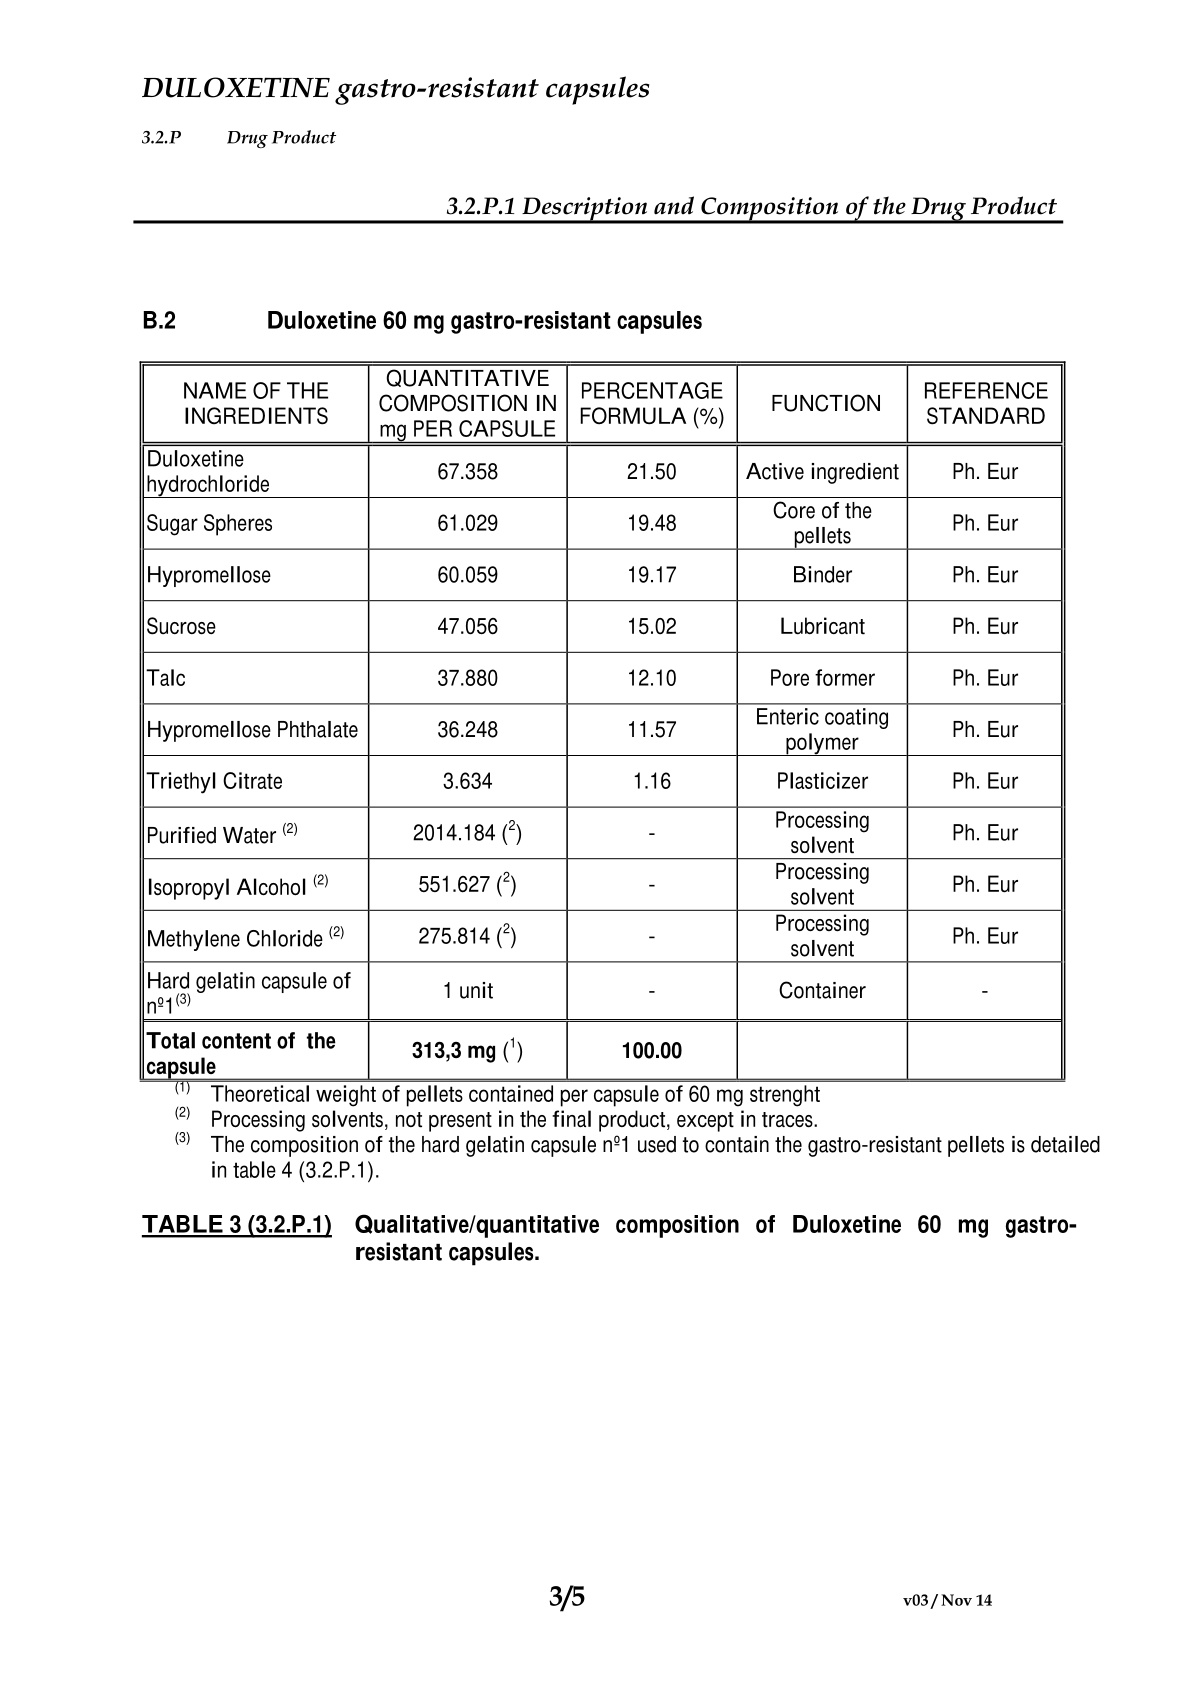full_lined: (134, 353, 1076, 1093)
